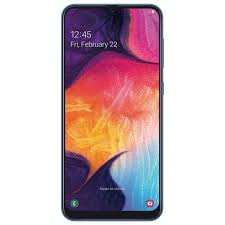samsung: (59, 1, 164, 225)
